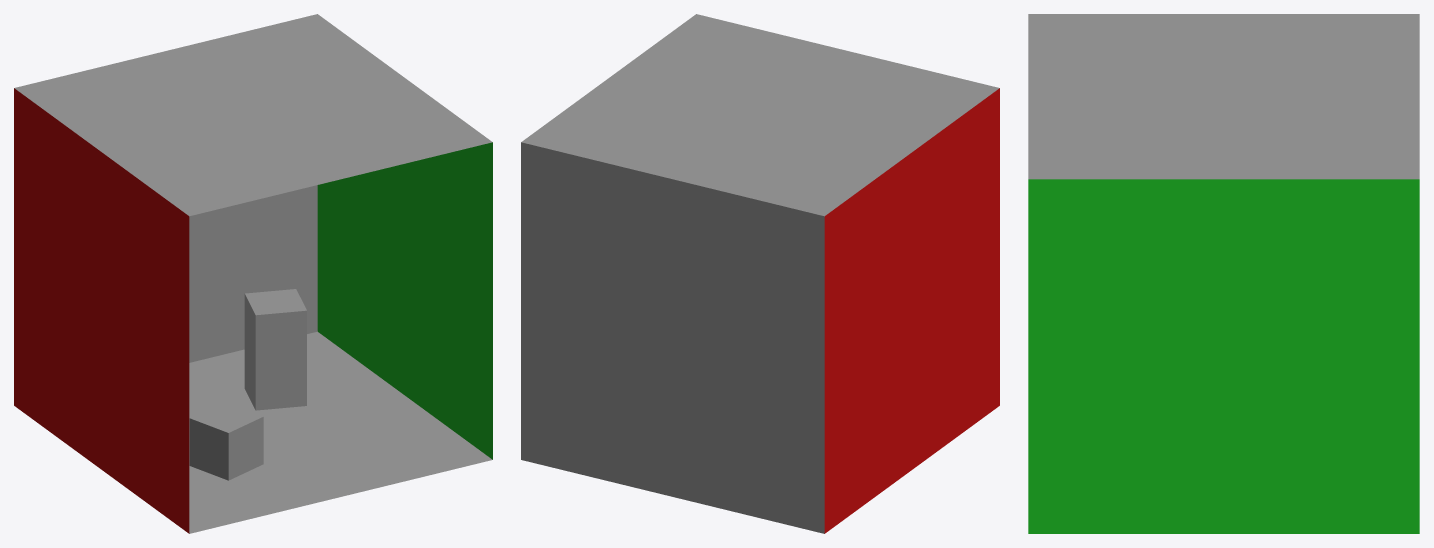
Rendered from cornell_box.obj.
3 views of the same model, side by side, from view 1: azimuth 30°, elevation 25°; view 2: azimuth 150°, elevation 25°; view 3: azimuth 270°, elevation 25° (orthographic). The views are drawn at different scales.
Visible parts, largest first — view 1: left_wall, ceiling, right_wall, floor, back_wall, tall_box, short_box; view 2: back_wall, left_wall, ceiling; view 3: right_wall, ceiling.
Boxes of the visible parts, x1=… form: left_wall: x1=14, y1=88, x2=189, y2=533; ceiling: x1=14, y1=14, x2=492, y2=216; right_wall: x1=317, y1=142, x2=492, y2=459; floor: x1=189, y1=331, x2=492, y2=533; back_wall: x1=189, y1=185, x2=317, y2=362; tall_box: x1=244, y1=289, x2=306, y2=410; short_box: x1=189, y1=401, x2=263, y2=480; back_wall: x1=521, y1=142, x2=824, y2=533; left_wall: x1=824, y1=88, x2=999, y2=533; ceiling: x1=521, y1=14, x2=999, y2=216; right_wall: x1=1028, y1=179, x2=1419, y2=533; ceiling: x1=1028, y1=14, x2=1419, y2=179.
Bounding box in the file's own units: 2 × 2 × 2.
